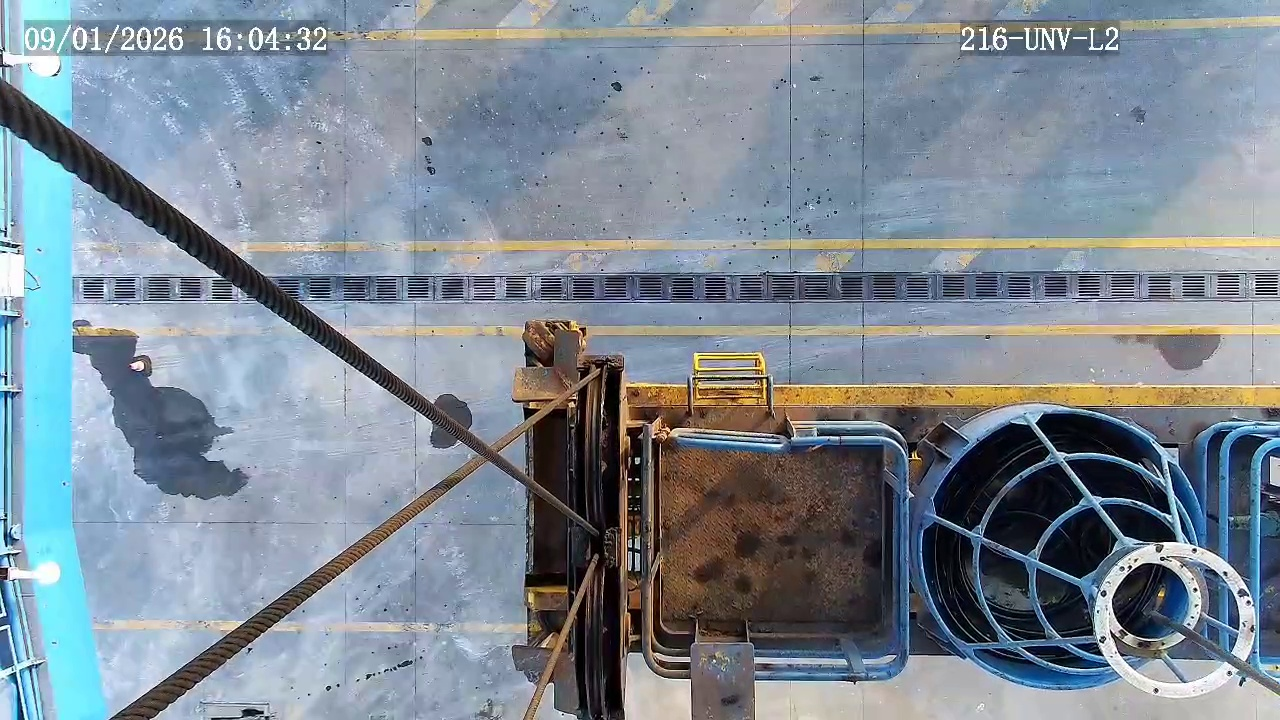left: (918, 409, 1208, 689)
